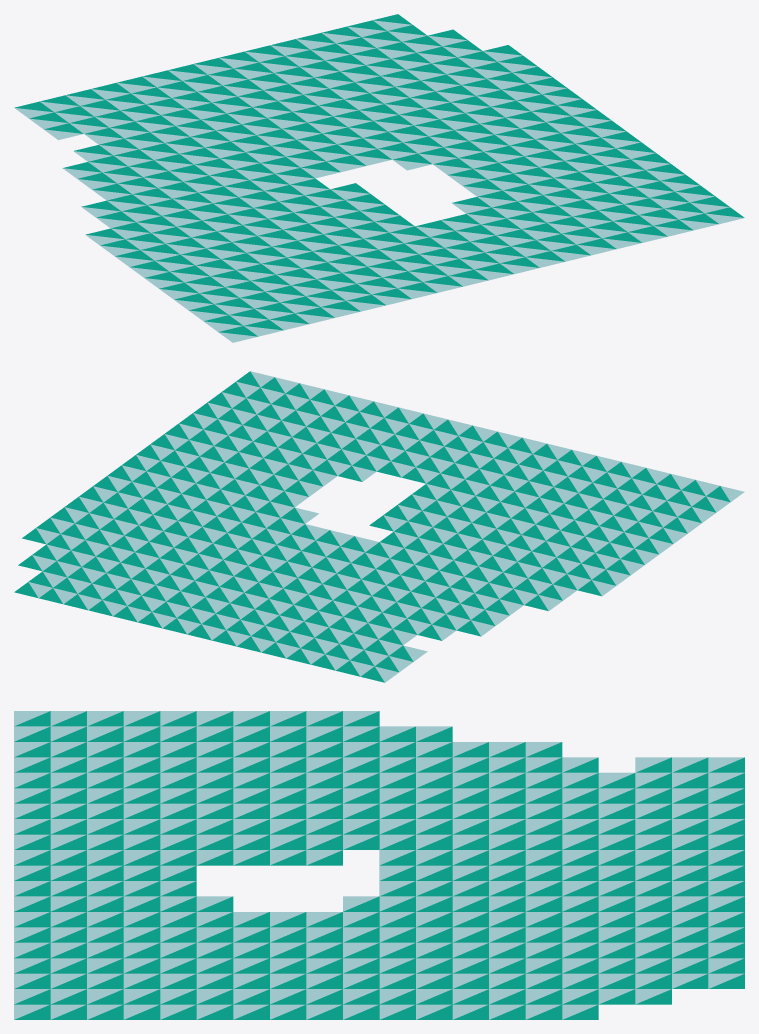
The model's file is navMesh.obj.
3 views of the same model, one above another, from view 1: azimuth 30°, elevation 25°; view 2: azimuth 150°, elevation 25°; view 3: azimuth 270°, elevation 25° (orthographic). The views are drawn at different scales.
Parts seen in each view (by area): view 1: navMesh_平面; view 2: navMesh_平面; view 3: navMesh_平面.
Boxes of the visible parts, box(x1,y1,x2,y2) form: navMesh_平面: box(14, 14, 744, 342); navMesh_平面: box(14, 371, 744, 682); navMesh_平面: box(14, 711, 744, 1019).
Size of the model in its own units: 20 by 0 by 20.
Materials: 1 (1 with a texture image).
